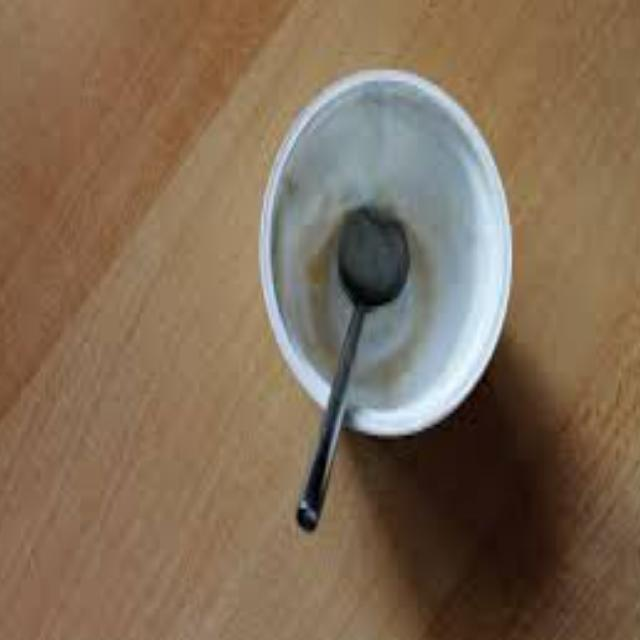GelasPlastik: (256, 52, 526, 482)
